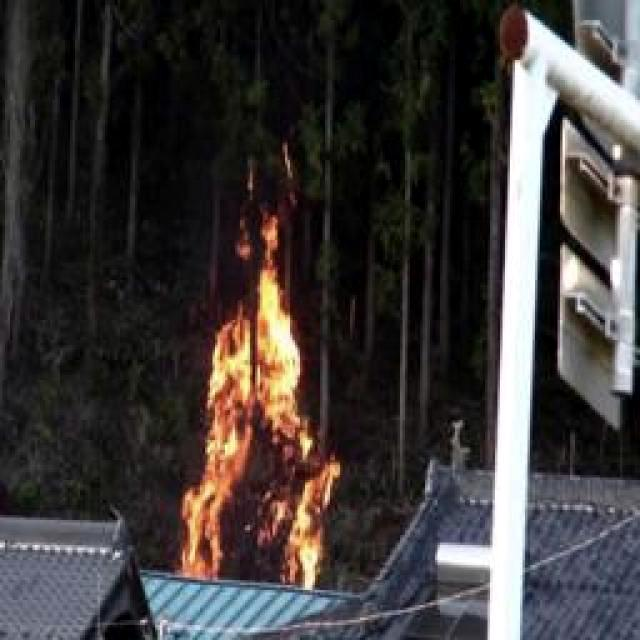fire: (182, 210, 334, 588)
